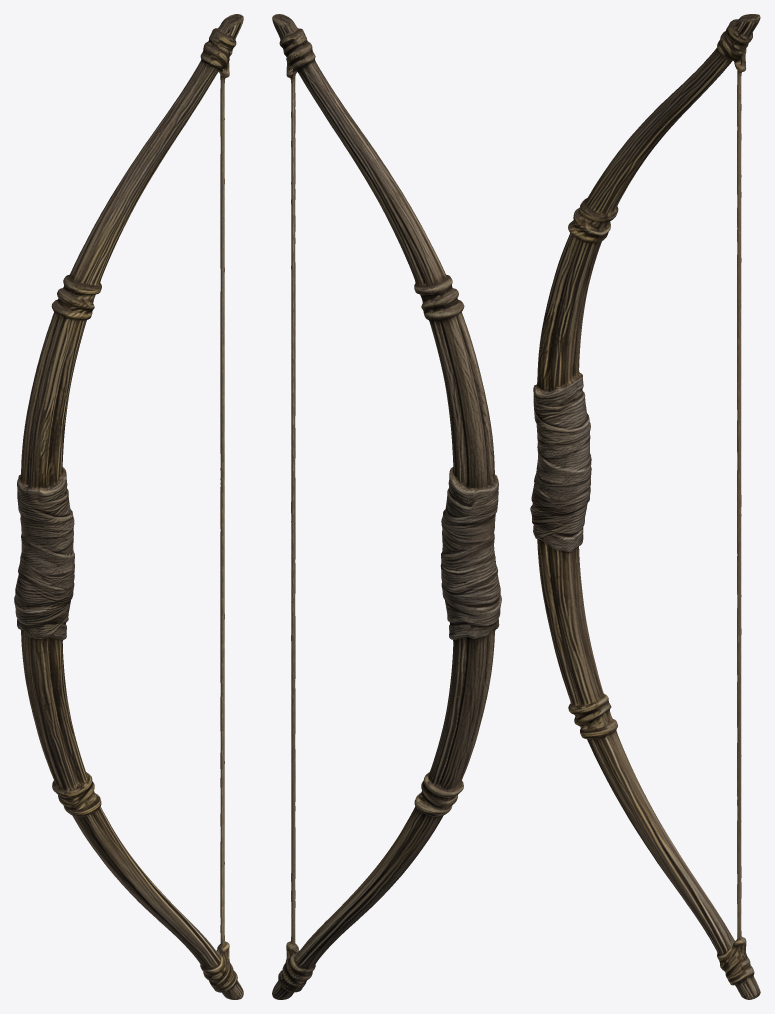
Rendered from langbogen_original.glb.
3 views of the same model, side by side, from view 1: azimuth 30°, elevation 25°; view 2: azimuth 150°, elevation 25°; view 3: azimuth 330°, elevation 25° (orthographic).
Bounding box in the file's own units: 0.453 × 1.9 × 0.1129.
Materials: 1 (1 with a texture image).
